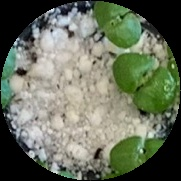Basil: (113, 55, 176, 115), (94, 1, 142, 48), (110, 137, 167, 171)
